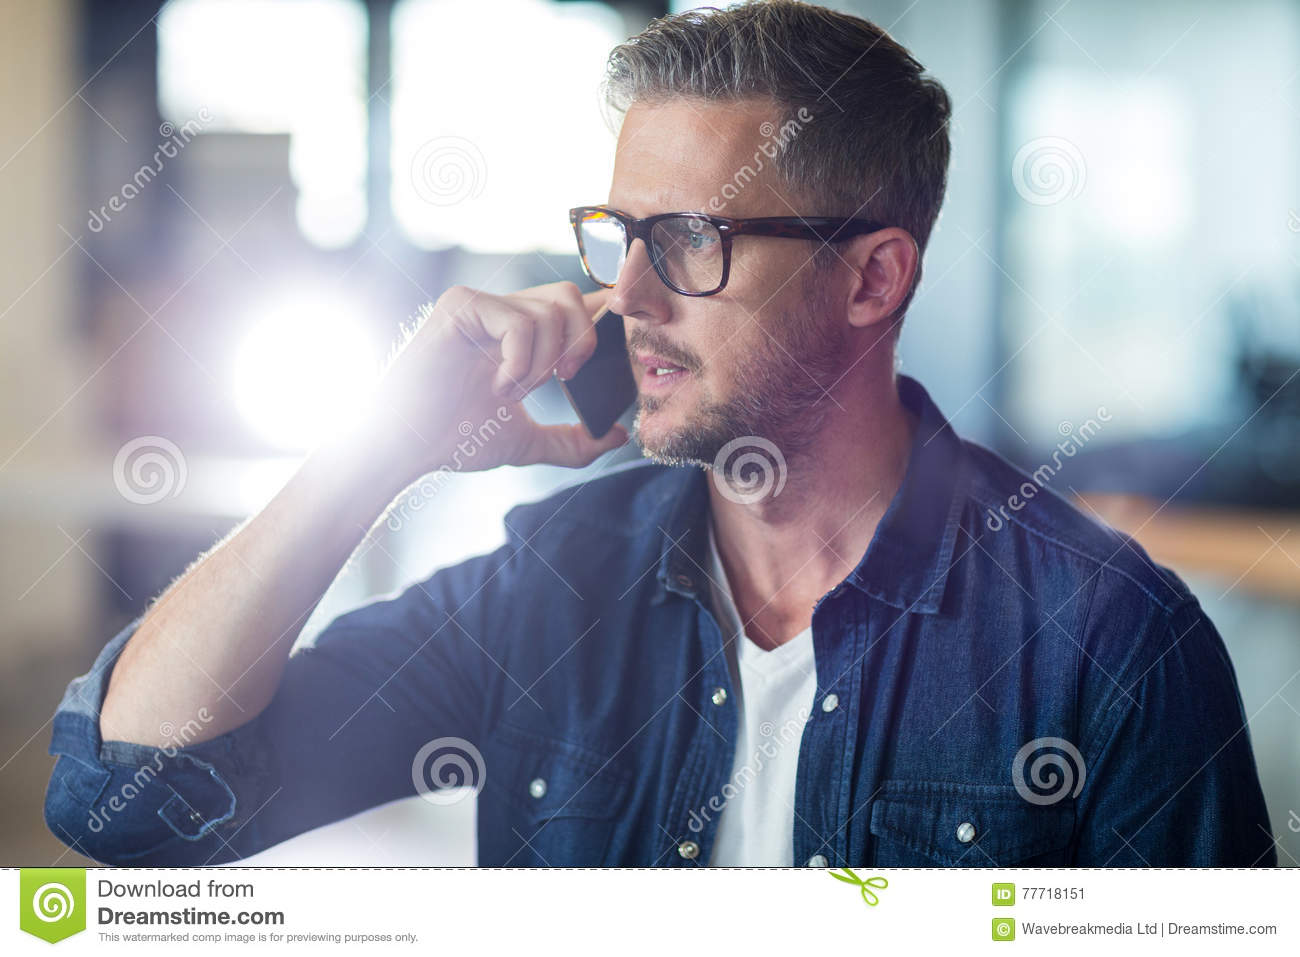phone: (548, 298, 632, 442)
talk: (394, 186, 776, 496)
